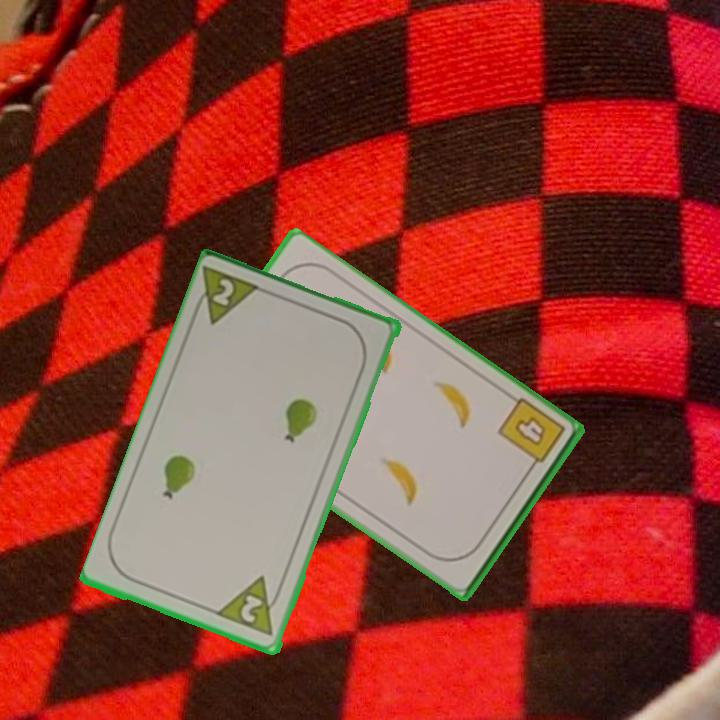2p: (187, 263, 266, 329), (215, 573, 287, 640)
4b: (494, 394, 568, 477)
